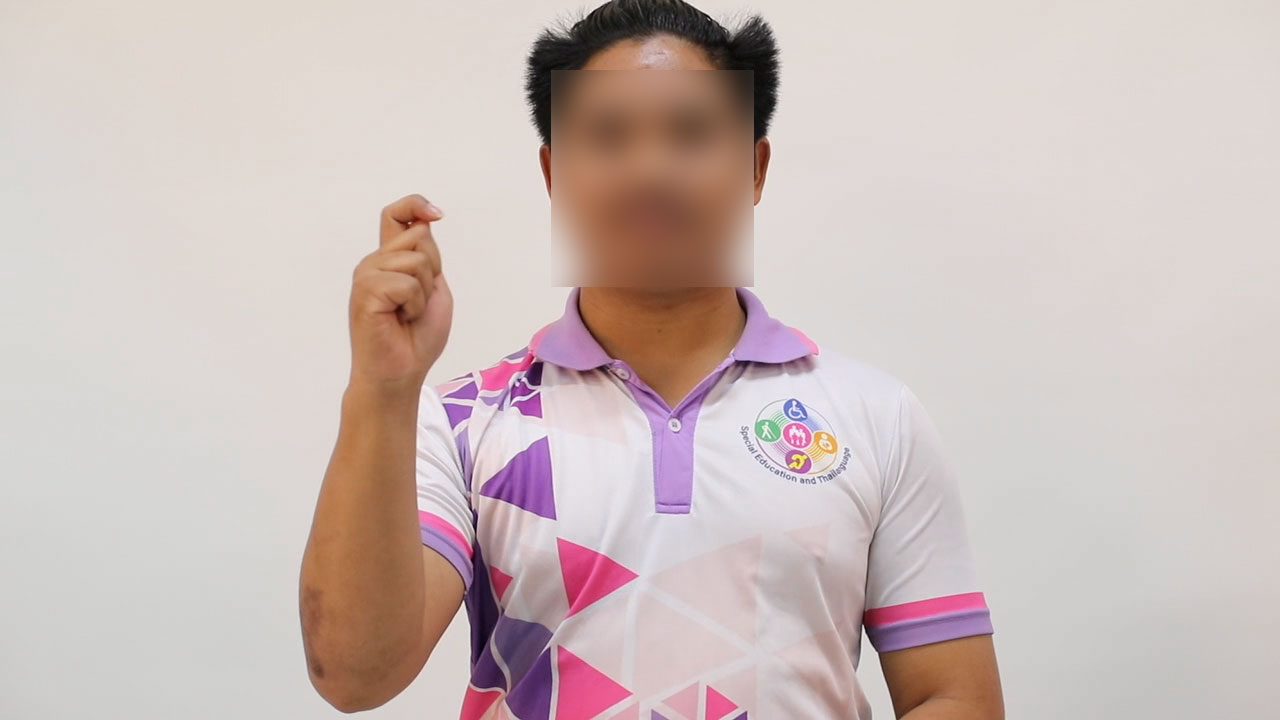or: (344, 186, 459, 406)
